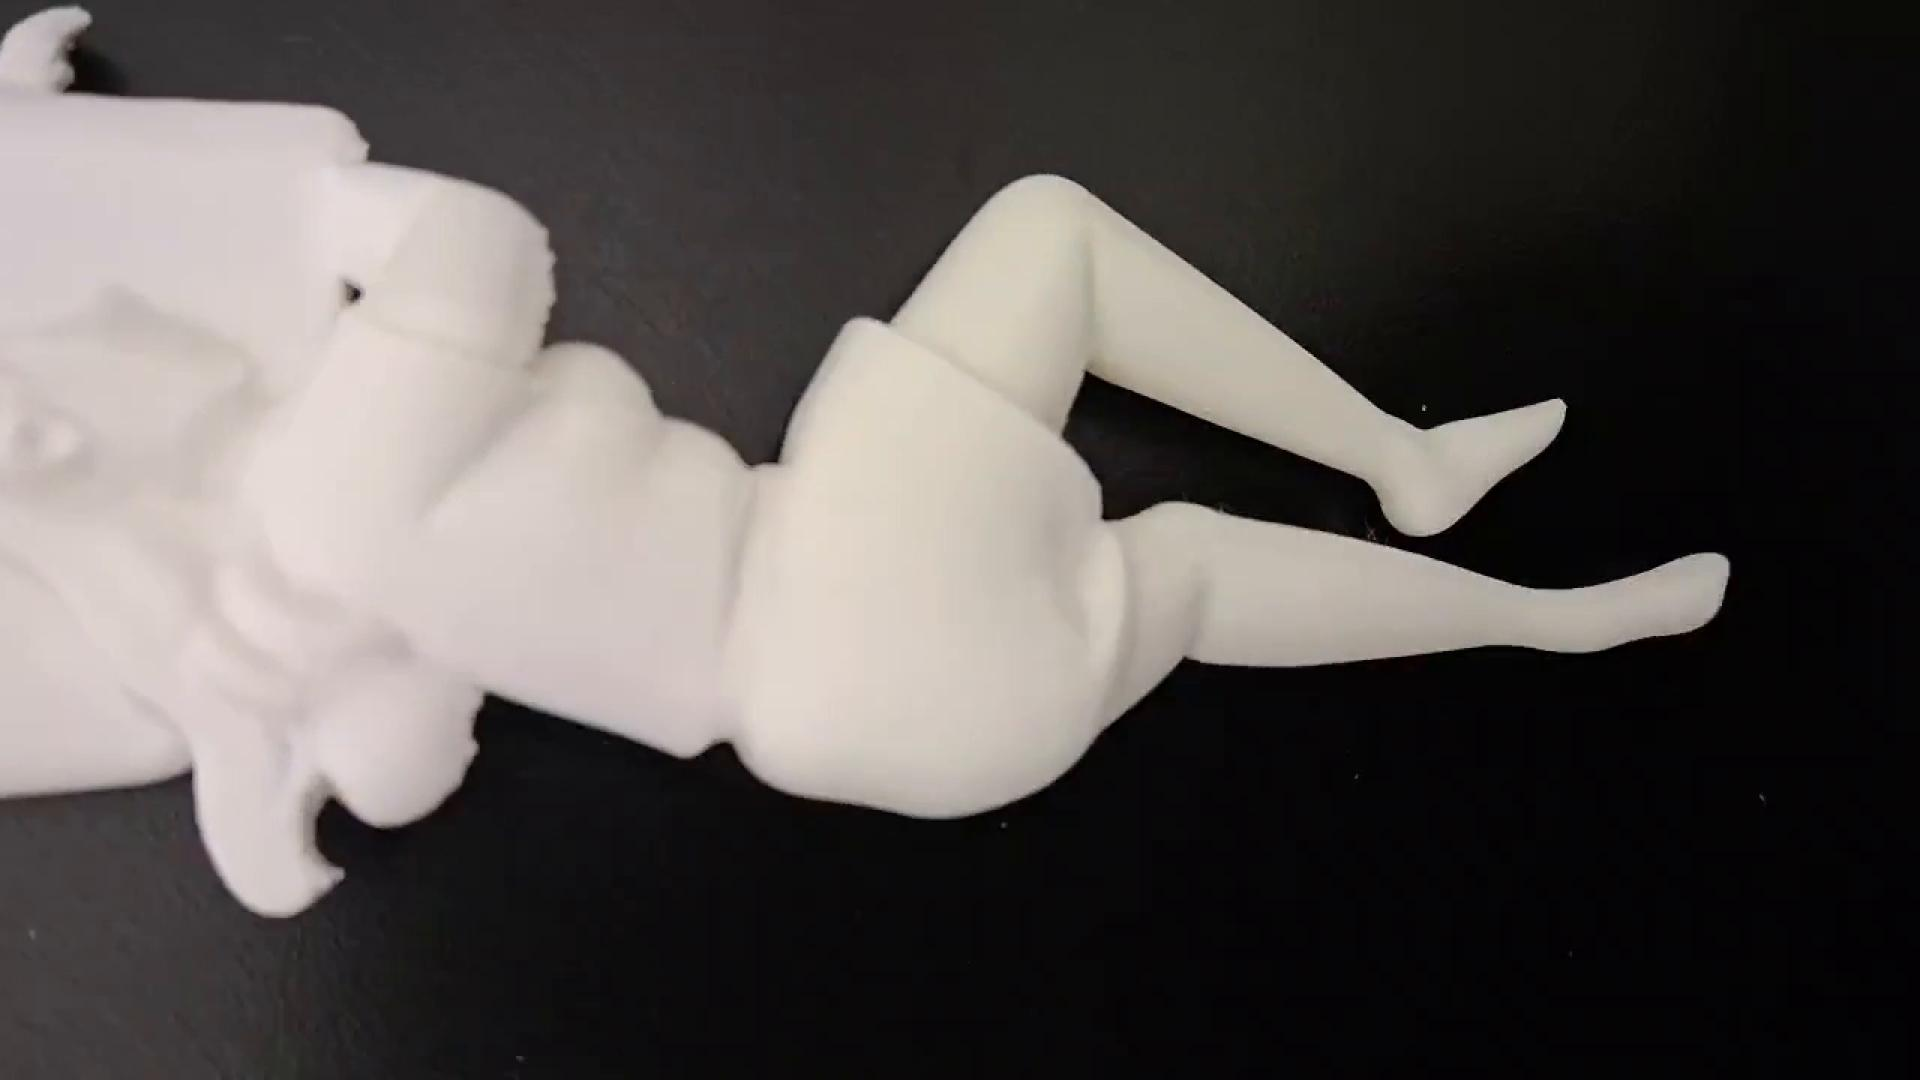Good-style: (0, 0, 1735, 924)
